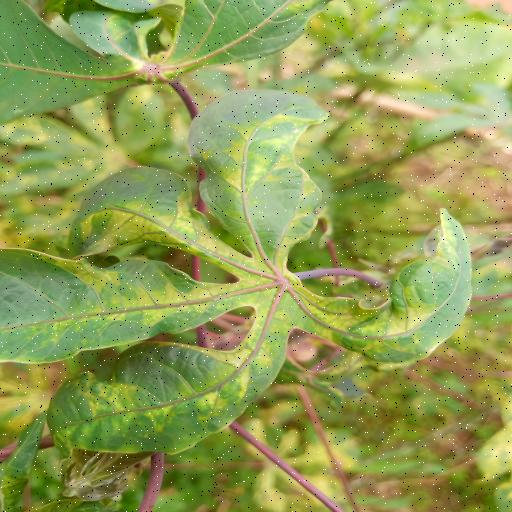Cassava_Mosaic: (0, 85, 470, 471)
